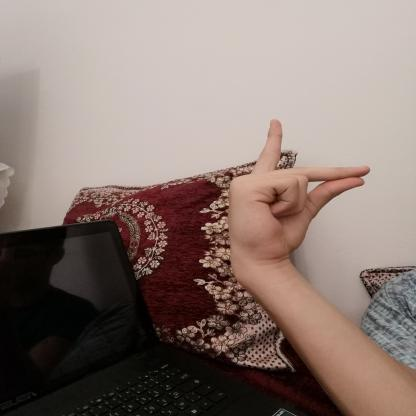TAA: (215, 113, 381, 276)
